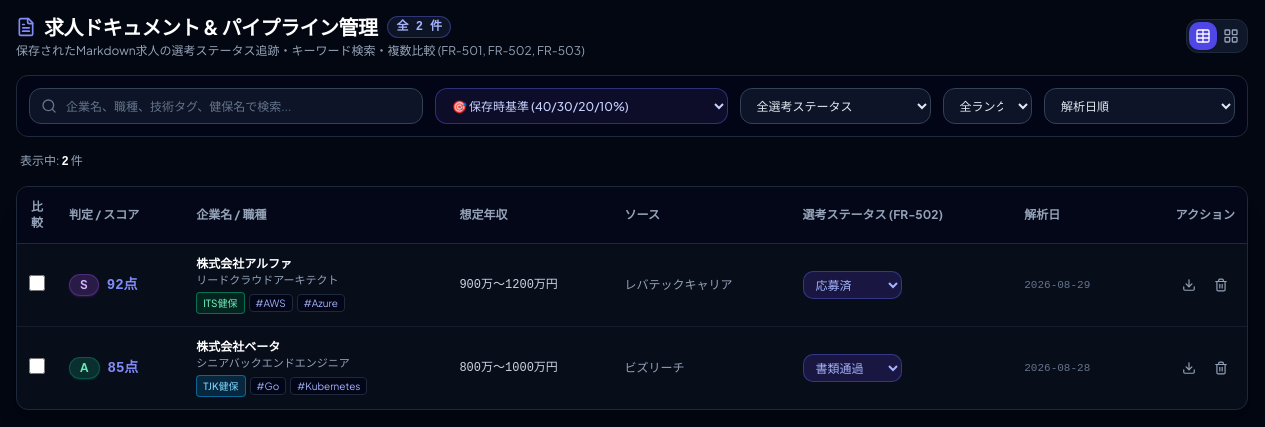
Test: JobDashboard Component › filters jobs based on search query
Type "アルファ" into the field with placeholder "企業名、職種、技術タグ、健保名で検索...".
click(226, 106); type("アルファ")  # box x1=29 y1=88 x2=423 y2=124
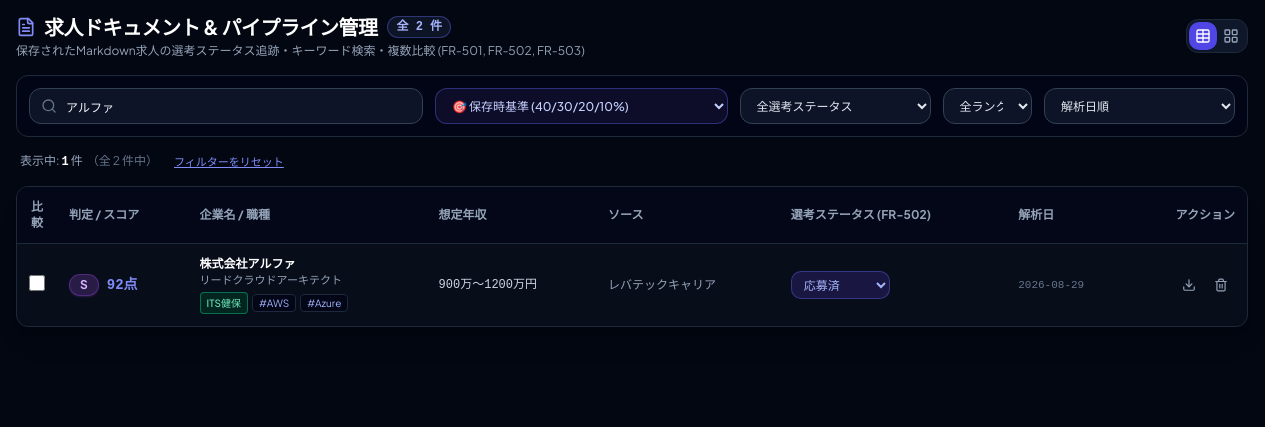
Expected: the text "株式会社アルファ" is shown, x1=200 y1=256 x2=296 y2=271
Now the text "株式会社ベータ" is gone
